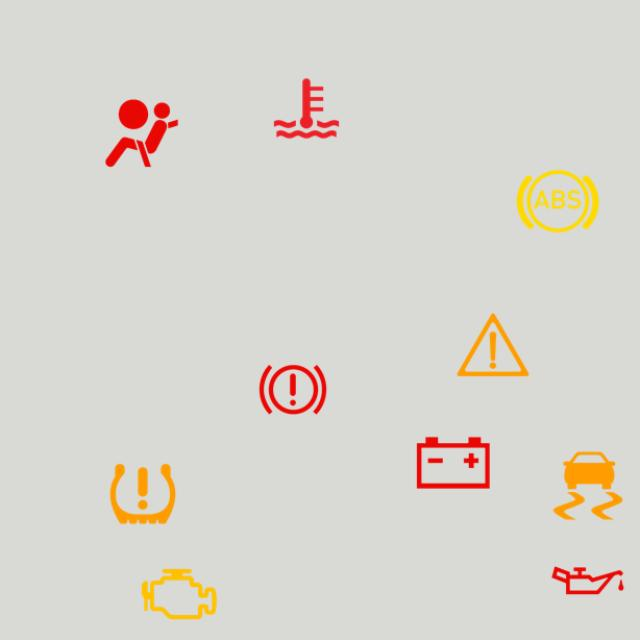Anti Lock Braking System: (513, 156, 602, 246)
Braking System Issue: (248, 345, 338, 435)
Charging System Issue: (409, 418, 498, 508)
Check Engine: (135, 549, 224, 639)
Electronic Stability Problem -ESP-: (543, 441, 633, 530)
Engine Overheating Warning Light: (262, 64, 351, 153)
Low Engine Oil Warning Light: (543, 536, 633, 625)
Low Tire Pressure Warning Light: (98, 449, 188, 539)
Master warning light: (448, 300, 538, 390)
SRS-Airbag: (97, 89, 187, 178)
